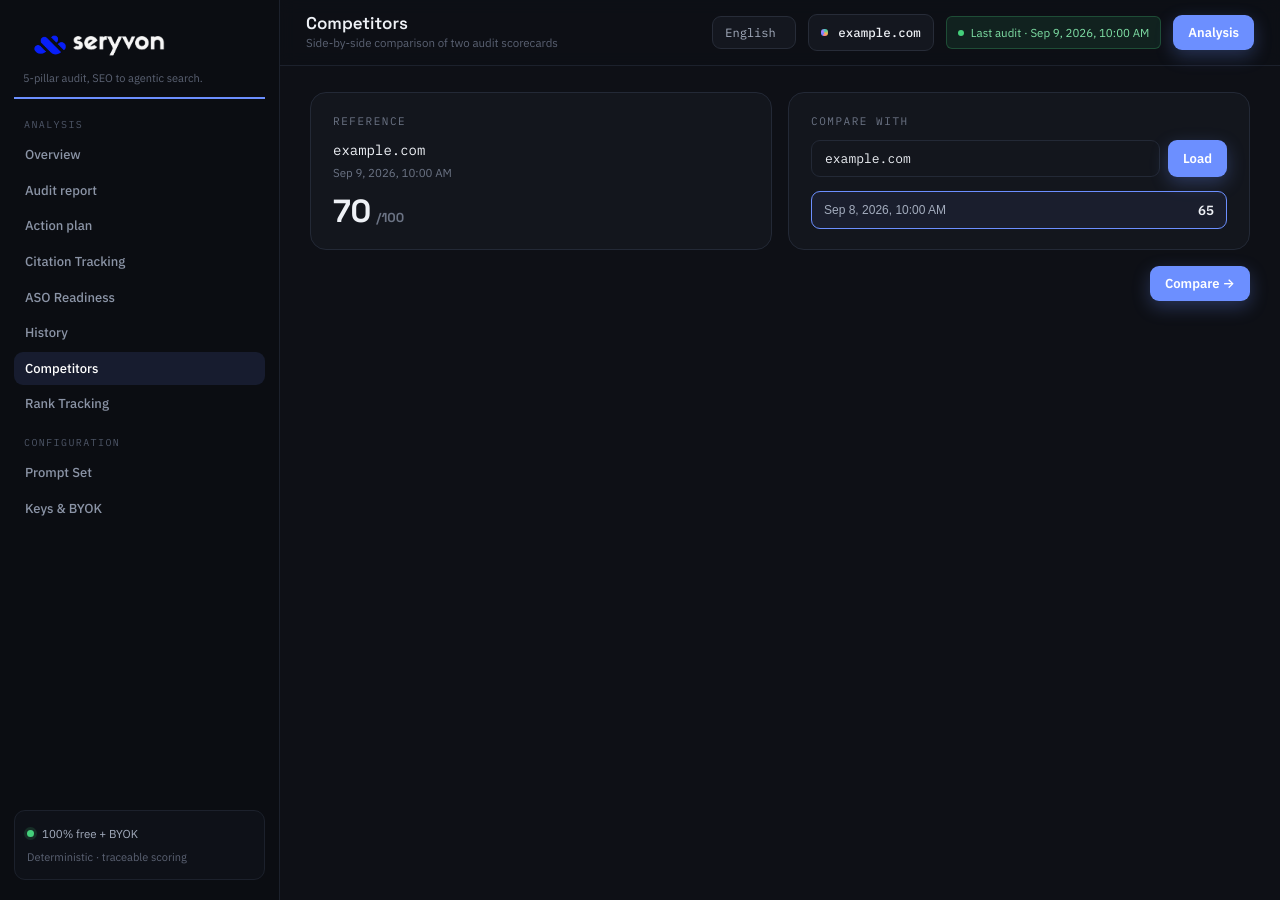
Test case: renders a negative global delta
Click the button "Compare →" at (1200, 283), box 1150,266 -> 1250,300
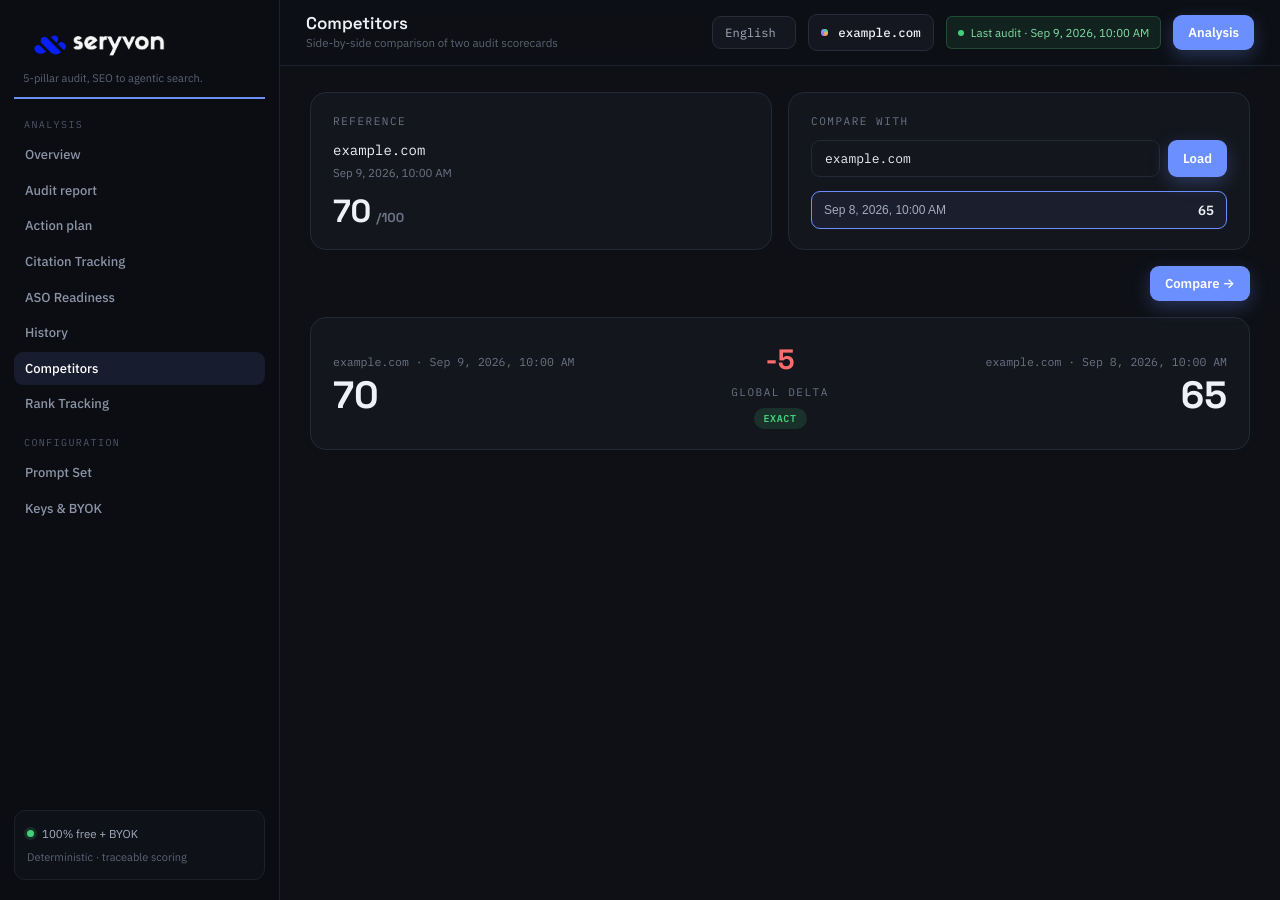
Check: the text "-5" is shown, box 766,340 -> 794,376
